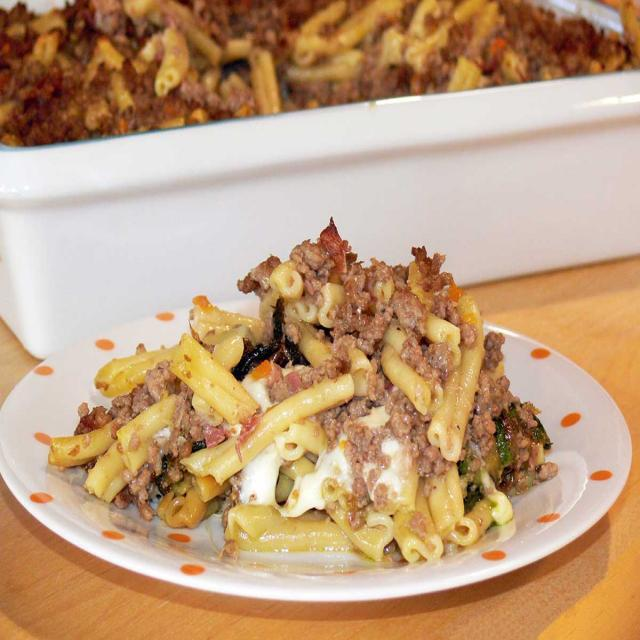Pasta al ragu: (54, 204, 596, 571)
